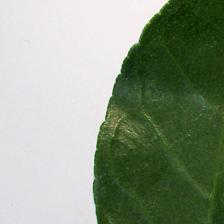healthy: (94, 1, 224, 224)
